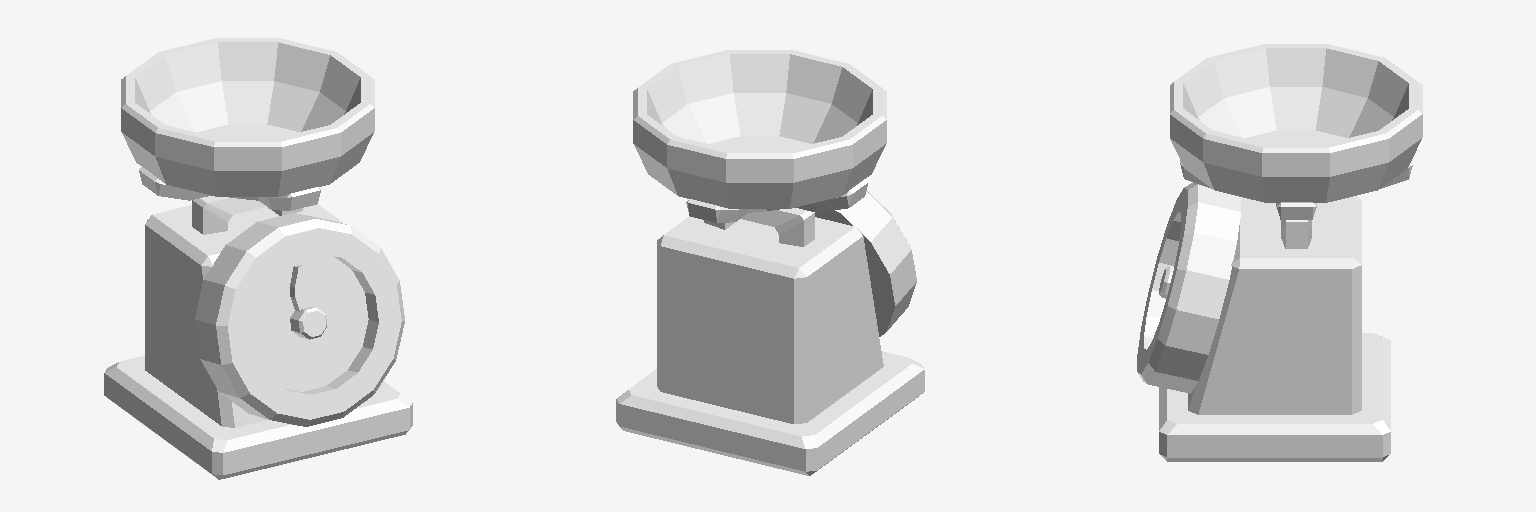
The model's file is scale.obj.
The picture shows the model from 3 angles: view 1: azimuth 30°, elevation 25°; view 2: azimuth 150°, elevation 25°; view 3: azimuth 270°, elevation 25°; orthographic projection.
Parts seen in each view (by area): view 1: scale; view 2: scale; view 3: scale.
Part boxes in pixels (bbox=[...]): scale: bbox=[104, 38, 412, 479]; scale: bbox=[616, 50, 924, 475]; scale: bbox=[1137, 44, 1422, 461].
Bounding box in the file's own units: 0.6 × 0.8375 × 0.6763.